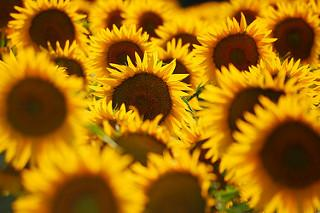sunflower: (220, 96, 320, 213), (0, 57, 89, 164), (90, 54, 190, 139), (191, 13, 278, 90), (127, 147, 216, 213), (7, 0, 88, 61), (254, 0, 320, 67)
